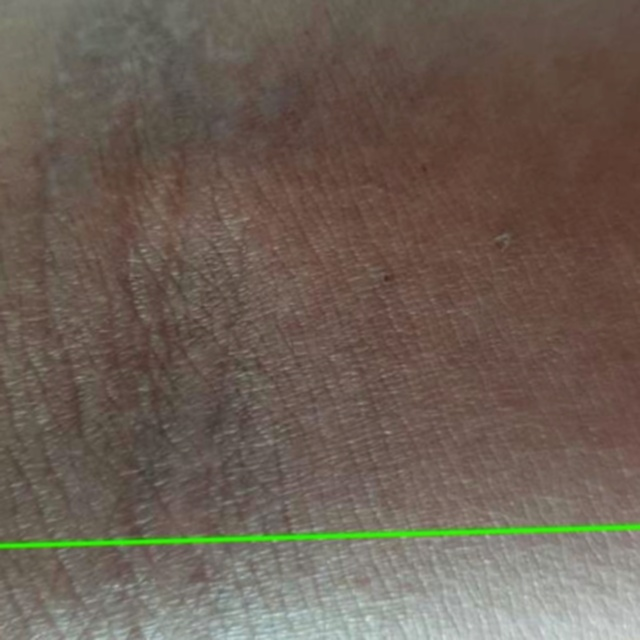Atopic Dermatitis: (0, 527, 639, 639)
